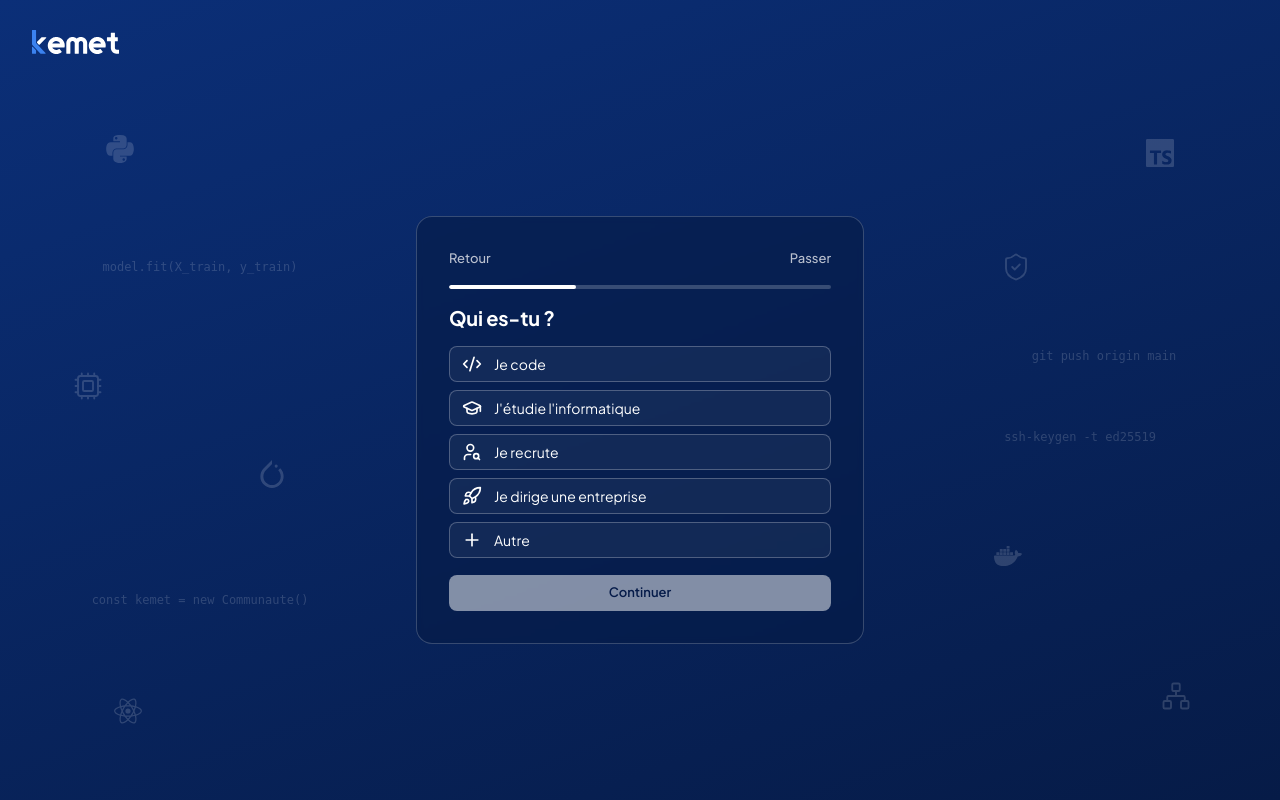
Scenario: IntroQuestionsPage › Passer n'enregistre pas le choix en cours
The width and height of the screenshot is (1280, 800).
Click the radio button labelled "J'étudie l'informatique" at (640, 408), box 449,390 -> 831,426
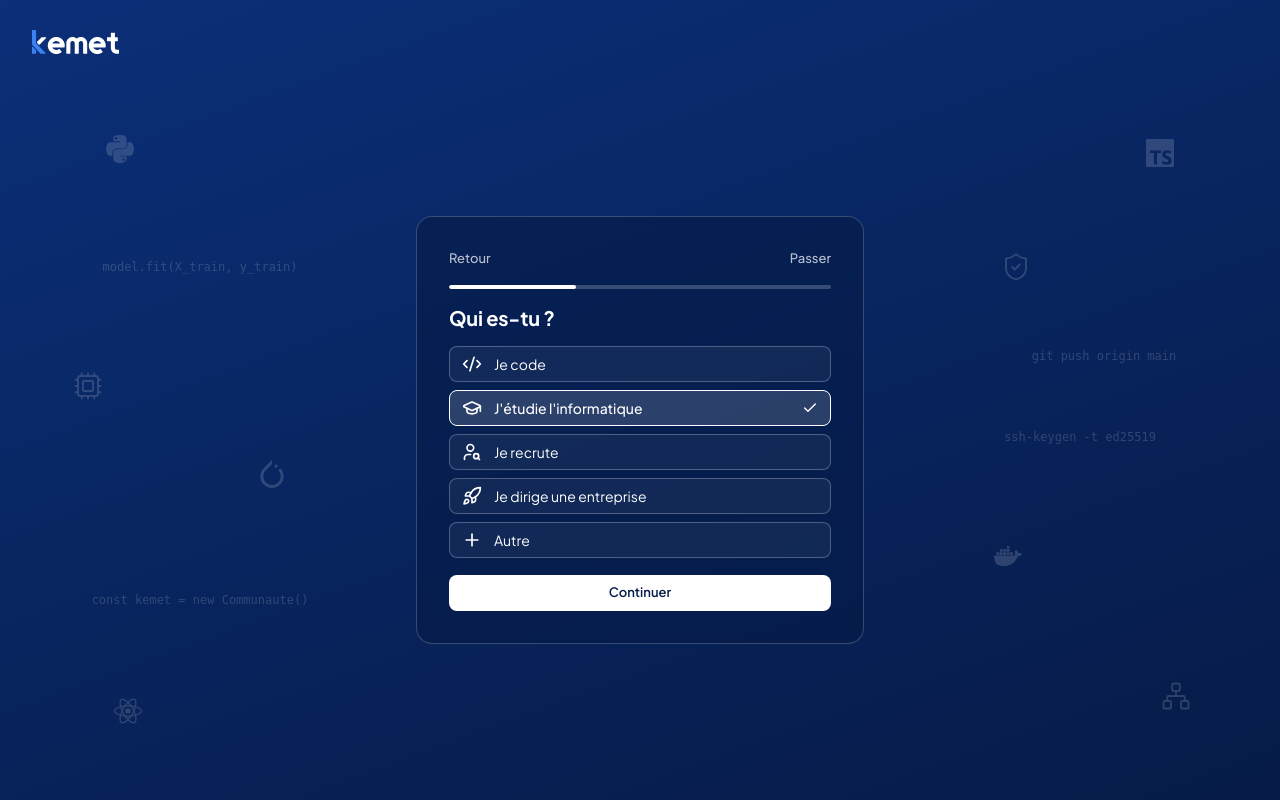
Click the button "Passer" at (810, 259), box 782,241 -> 839,277
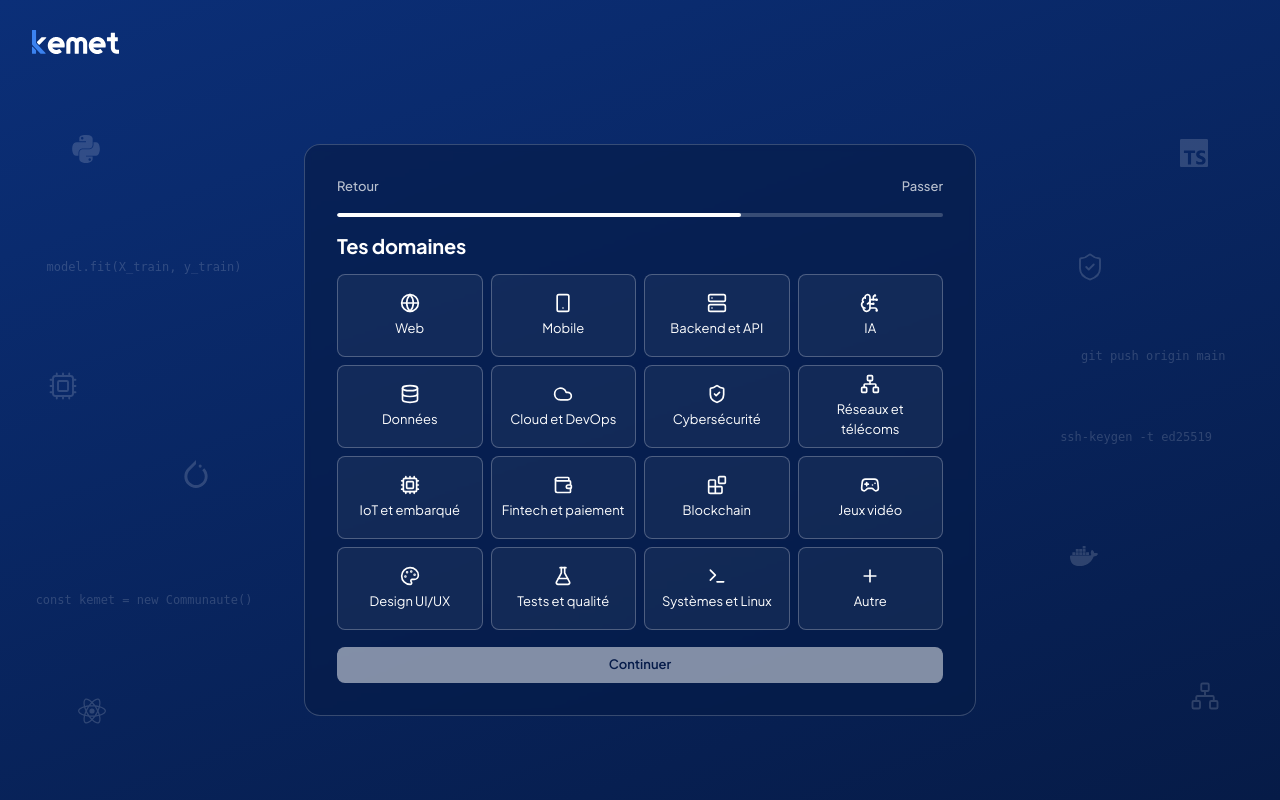
Now the heading "Tes domaines" is shown, box 337,233 -> 466,258
